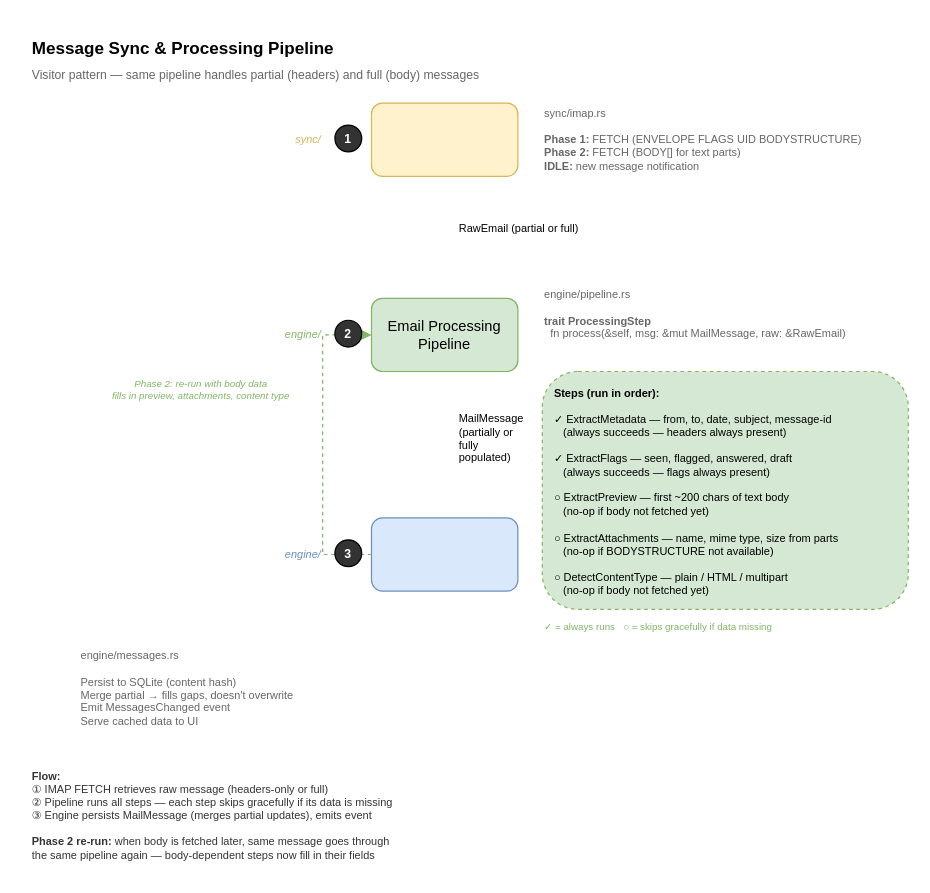
The diagram is 930 pixels wide and 893 high, and some of its shapes have lost their labels. Each missing label, with the centre of its shape:
"Engine" goes at (x=444, y=554).
"Message Received" goes at (x=444, y=139).
